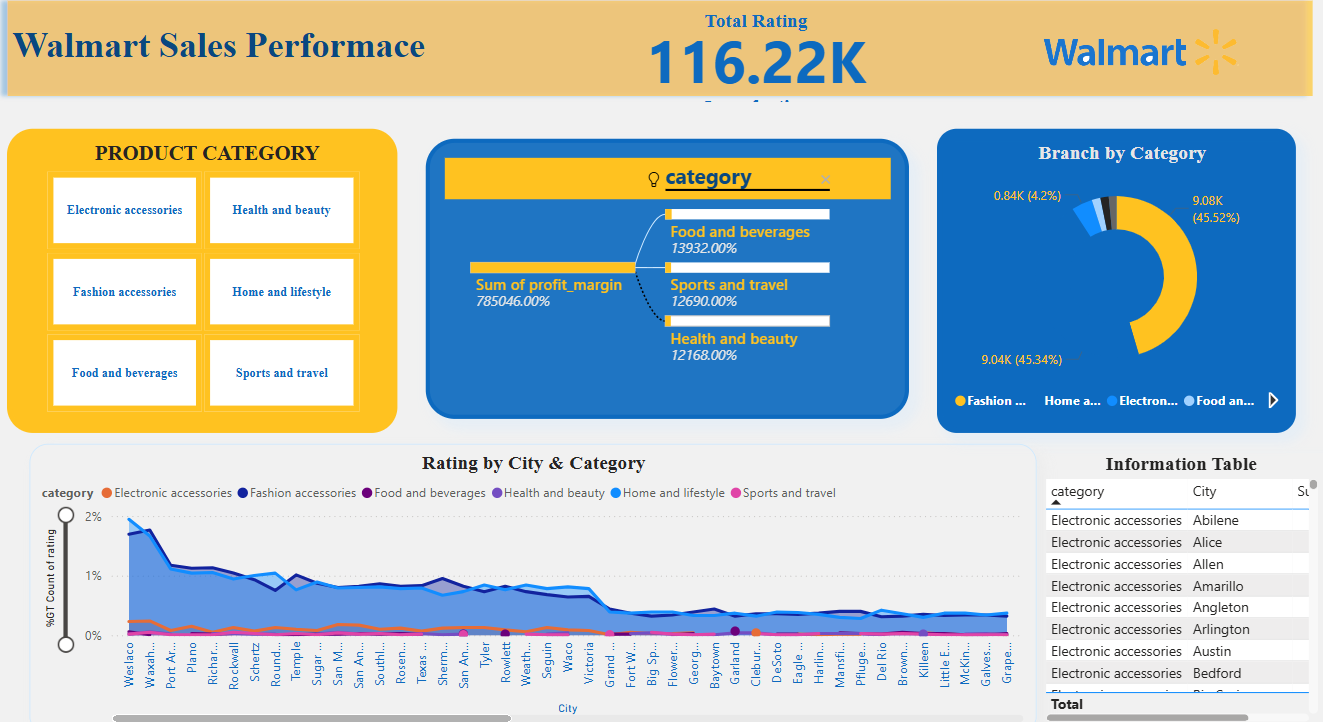

This screenshot's page, from the dashboard's own definition file:
{"tool":"powerbi","page":{"name":"WalmartSales","canvas":[1280,720],"ordinal":0},"visuals":[{"type":"shape","box":[0,0,1280,112.5],"z":0},{"type":"image","box":[920,10,360,146.7],"z":1000},{"type":"card","title":"Total Rating","fields":{"Values":["Sum(walmart.rating)"]},"box":[517.5,18.8,430,93.8],"z":2000},{"type":"donutChart","title":"Branch by Category","fields":{"Category":["walmart.category"],"Y":["CountNonNull(walmart.Branch)"]},"box":[906.7,133.3,346.7,293.3],"z":3000},{"type":"areaChart","title":"Rating by City & Category","fields":{"Series":["walmart.category"],"Y":["Sum(walmart.rating)"],"Category":["walmart.City"]},"box":[31.7,438.3,971.7,281.7],"z":4000},{"type":"tableEx","title":"Information Table","fields":{"Values":["walmart.category","walmart.City","Sum(walmart.rating)"]},"box":[1006,446,274,266],"z":5000},{"type":"slicer","title":"PRODUCT CATEGORY","fields":{"Values":["walmart.category"]},"box":[10,133.3,376.7,293.3],"z":6000},{"type":"textbox","title":"Walmart Sales Performace","box":[10,32.5,630,50],"z":7000},{"type":"decompositionTreeVisual","fields":{"Analyze":["Sum(walmart.profit_margin)"],"ExplainBy":["walmart.category"]},"box":[413.3,143.3,466.7,270],"z":8000}]}

Visuals, with their boxes on the page's 1280x720 design canvas (x1, y1, x2, y2). These are canvas units, not pixel positions in the 1323x722 screenshot, which may show the page scaled, cropped or inside an application window:
shape: 0:0:1280:112
image: 920:10:1280:157
"Total Rating" card: 518:19:948:113
"Branch by Category" donutChart: 907:133:1253:427
"Rating by City & Category" areaChart: 32:438:1003:720
"Information Table" tableEx: 1006:446:1280:712
"PRODUCT CATEGORY" slicer: 10:133:387:427
"Walmart Sales Performace" textbox: 10:32:640:82
decompositionTreeVisual - Sum(walmart.profit_margin) x walmart.category: 413:143:880:413
